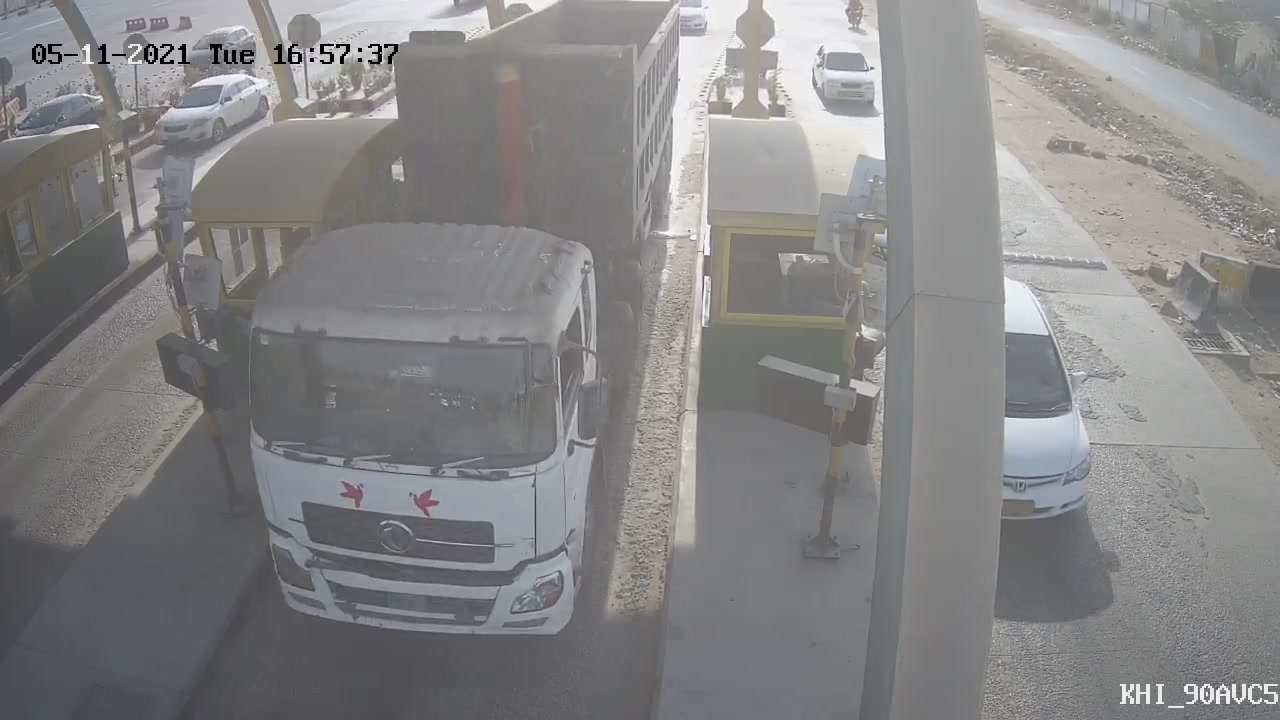F6: (225, 1, 691, 668)
